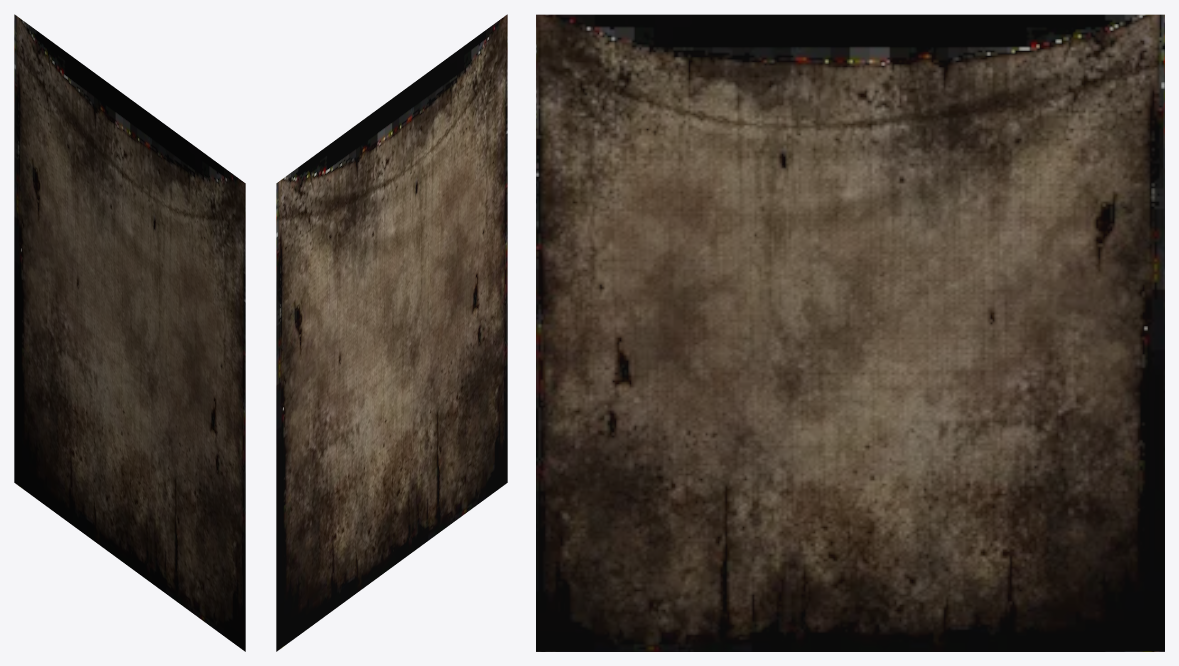
The model's file is o_mdl_env_hangingRagsC-transformed.glb.
3 views of the same model, side by side, from view 1: azimuth 30°, elevation 25°; view 2: azimuth 150°, elevation 25°; view 3: azimuth 270°, elevation 25° (orthographic). The views are drawn at different scales.
Parts seen in each view (by area): view 1: default; view 2: default; view 3: default.
Part boxes in pixels (box(x1,y1,x2,y2)): default: box(14, 14, 245, 651); default: box(276, 14, 507, 651); default: box(536, 14, 1164, 651).
Size of the model in its own units: 0.00575 by 2.69 by 2.4.
Materials: 1 (1 with a texture image).
